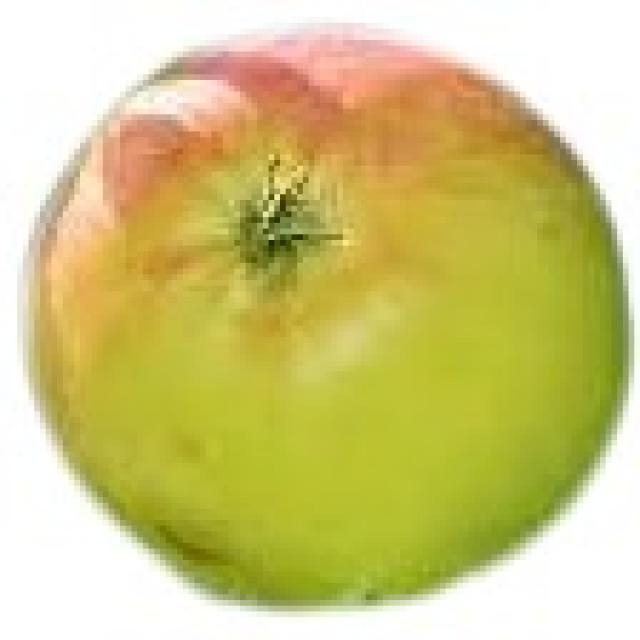75-_ripeness: (25, 27, 630, 610)
